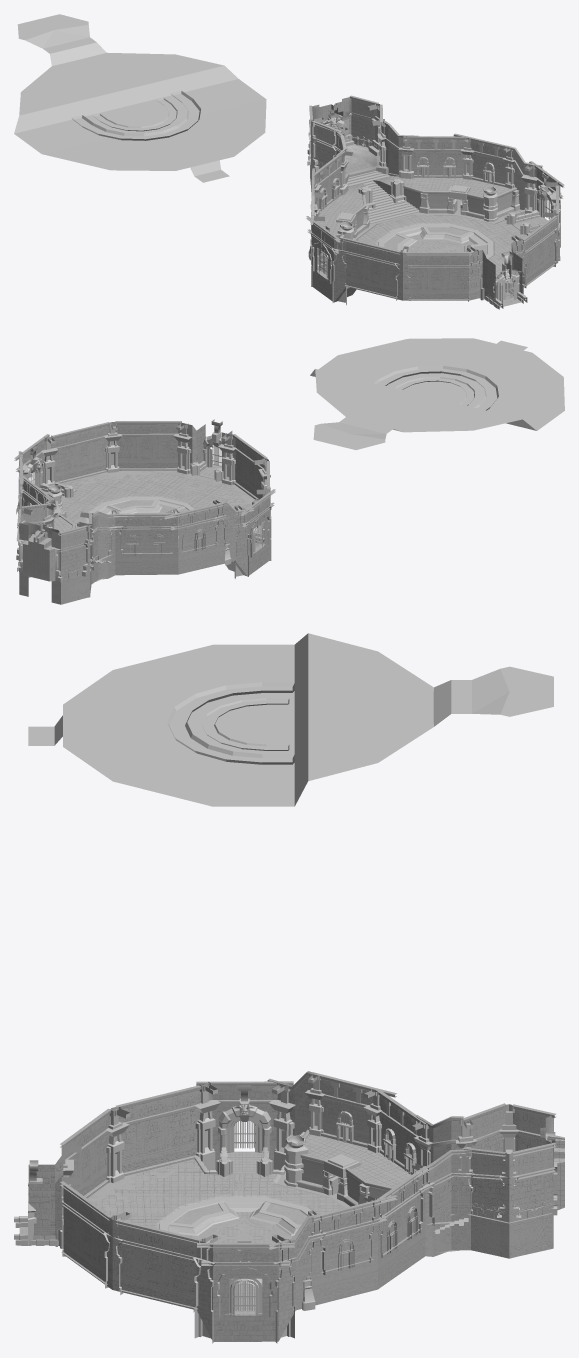
Rendered from EA_2stage.FBX.
3 renders of one model, top to bottom at view 1: azimuth 30°, elevation 25°; view 2: azimuth 150°, elevation 25°; view 3: azimuth 270°, elevation 25°, orthographic. The views are drawn at different scales.
Parts seen in each view (by area): view 1: Object554, Object611, Object473, Object613, Object610, Object612; view 2: Object554, Object611, Object473, Object613, Object612, Object610; view 3: Object554, Object611, Object473, Object613, Object610, Object612.
Part boxes in pixels (box(x1,y1,x2,y2)): Object554: box(306, 95, 564, 307); Object611: box(14, 14, 266, 182); Object473: box(307, 103, 561, 309); Object613: box(318, 199, 527, 302); Object610: box(314, 139, 551, 299); Object612: box(71, 90, 200, 140); Object554: box(14, 421, 275, 604); Object611: box(310, 338, 564, 449); Object473: box(16, 419, 271, 582); Object613: box(60, 470, 263, 581); Object612: box(374, 365, 498, 410); Object610: box(20, 445, 262, 555); Object554: box(19, 1071, 564, 1341); Object611: box(28, 633, 553, 806); Object473: box(14, 1074, 557, 1343); Object613: box(87, 1159, 459, 1319); Object610: box(233, 1081, 418, 1310); Object612: box(167, 682, 294, 764).
Size of the model in its own units: 614 by 274 by 381.
